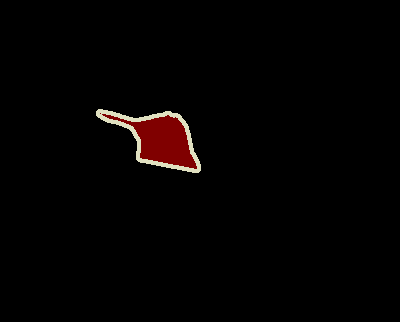bird: (95, 110, 200, 172)
